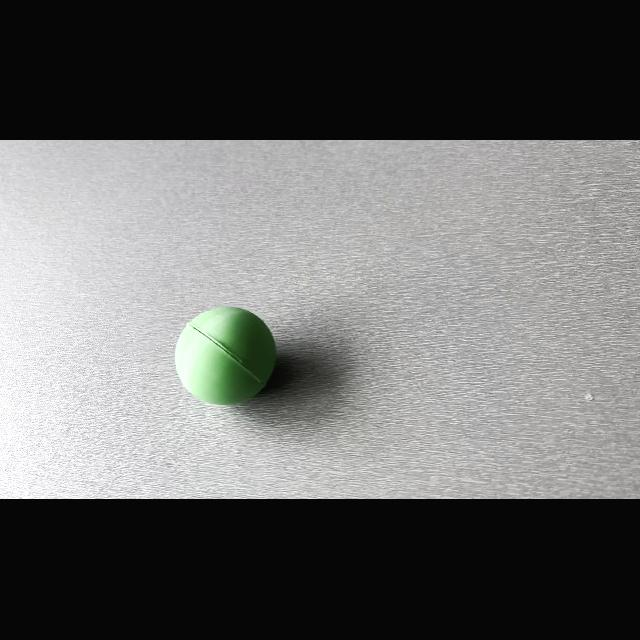objects: (163, 298, 287, 414)
